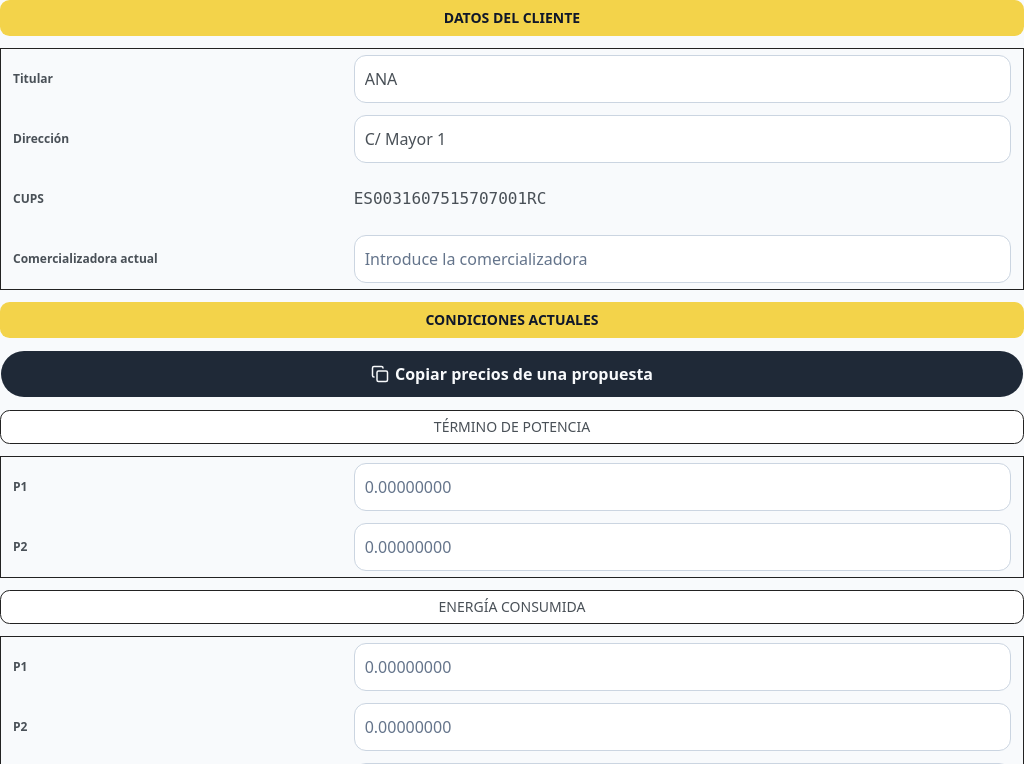
Test case: Copiar precios de una propuesta › opens the sheet with the first proposal preselected and copies the chosen one
Type "Endesa" into the field labelled "Comercializadora actual" at (682, 259), box [354, 235, 1011, 283]
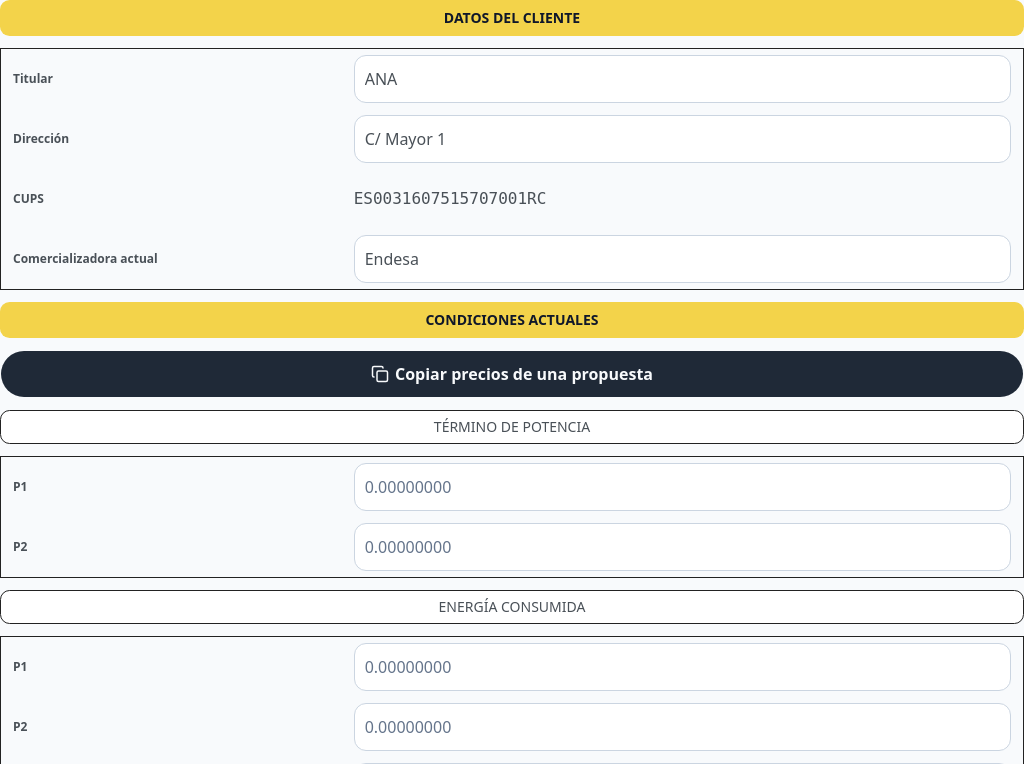
Click the button "Copiar precios de una propuesta" at (512, 374), box [0, 350, 1023, 398]
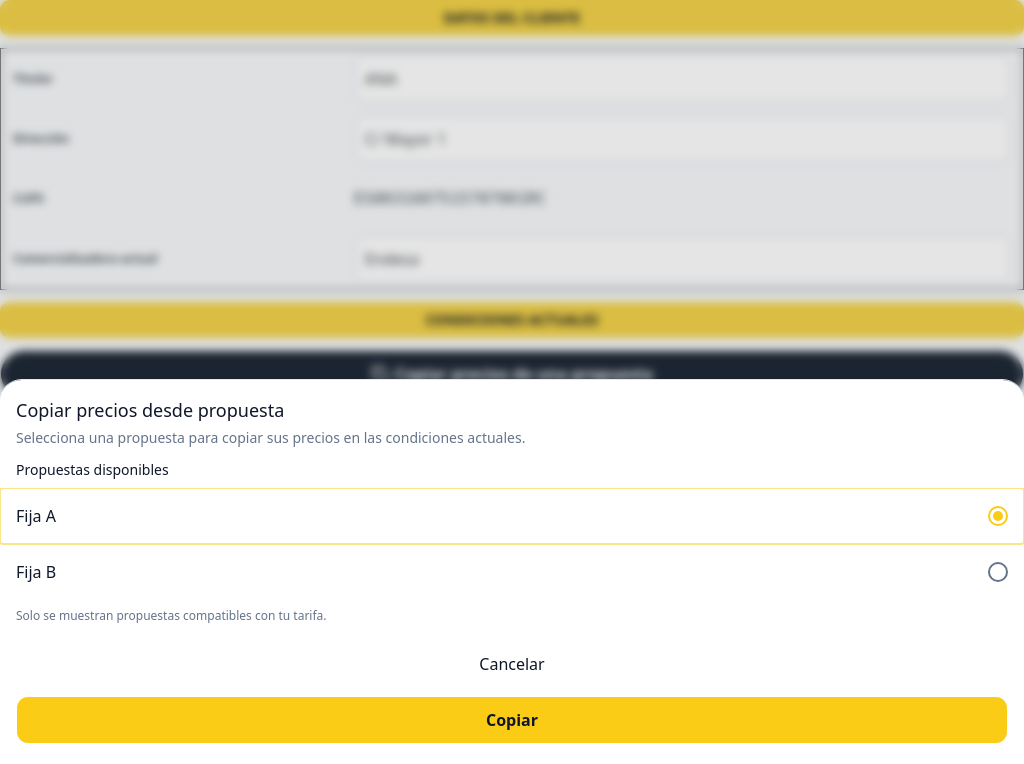
Now the heading "Copiar precios desde propuesta" is shown, box [16, 398, 284, 422]
Now the text "Solo se muestran propuestas compatibles con tu tarifa." is shown, box [16, 607, 326, 624]
Click the radio button labelled "Fija B" at (36, 572), box [0, 544, 1023, 600]
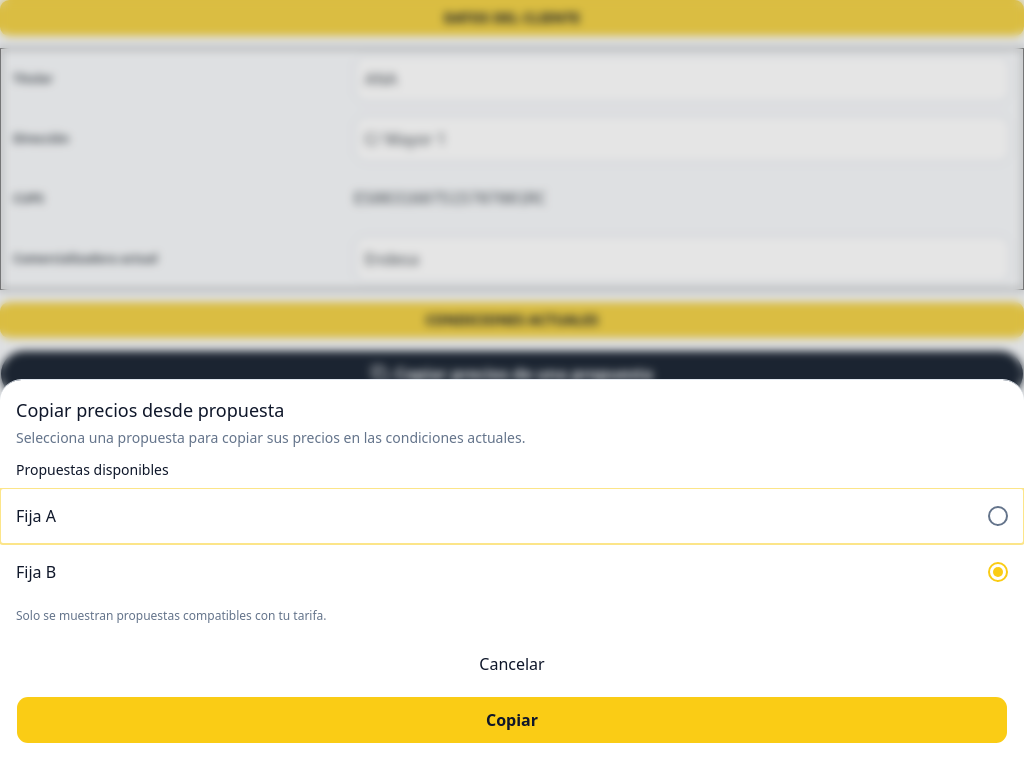
Click the button "Copiar" at (512, 720), box [16, 696, 1008, 744]
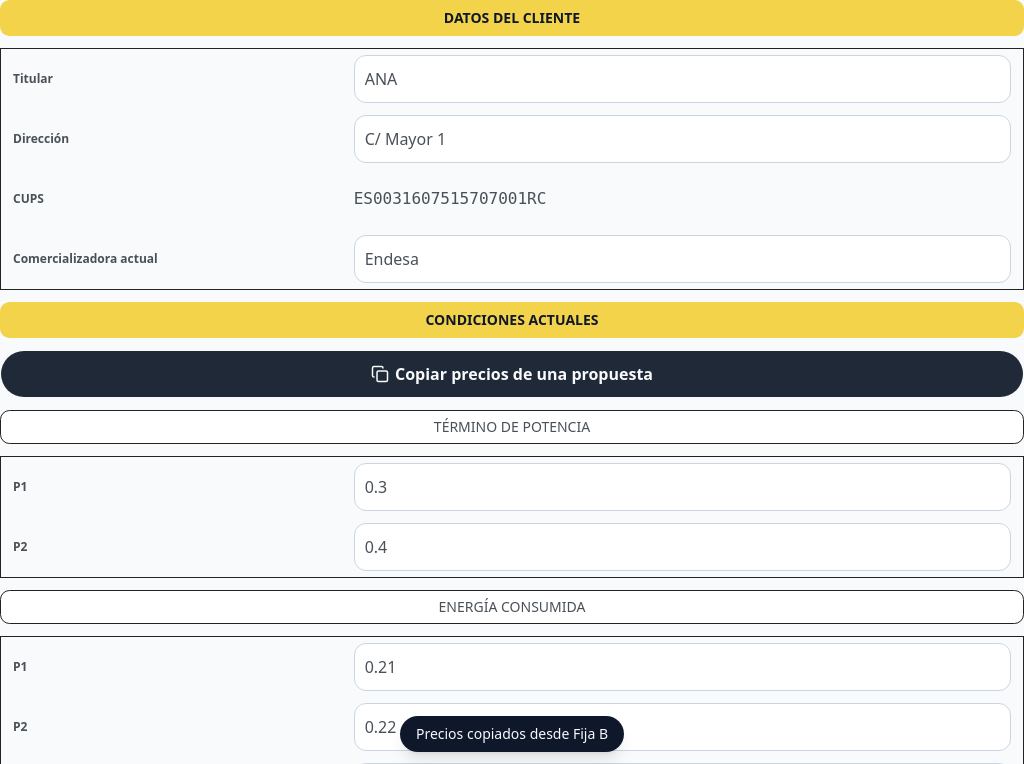
Now the message reads "Precios copiados desde Fija B", box [416, 724, 608, 743]
